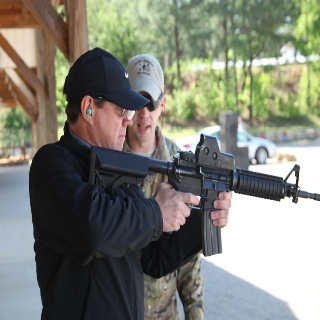rifle: (84, 132, 320, 258)
